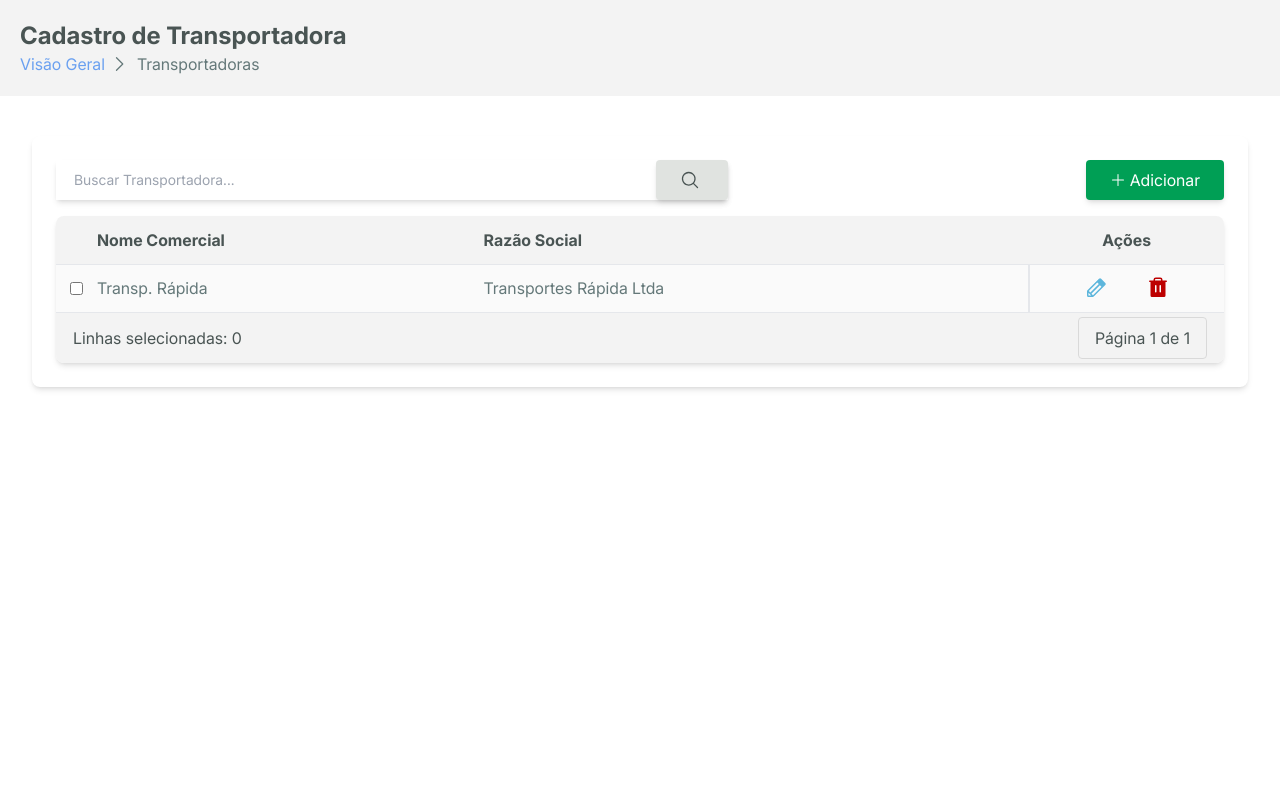
Scenario: navegação por teclado — CRUD de referência (Transportadora) › o botão Excluir abre o ConfirmModal por teclado, com trap de foco, e Esc devolve o foco
Expected: the text "Transp. Rápida" is shown, [96,264,483,312]
Click the button named "Excluir" at (1158, 288), box [1146,276,1170,300]
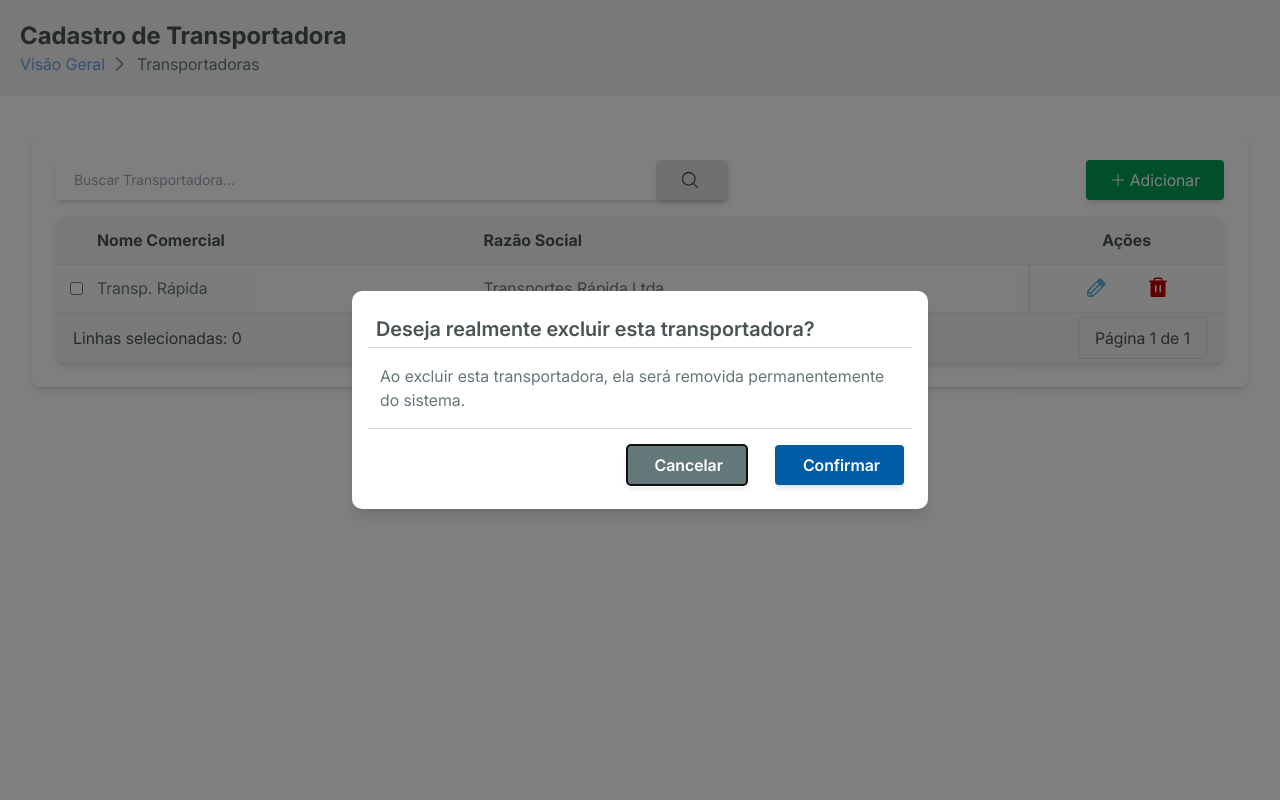
Expected: the dialog is shown, [352,291,928,509]
Press Tab
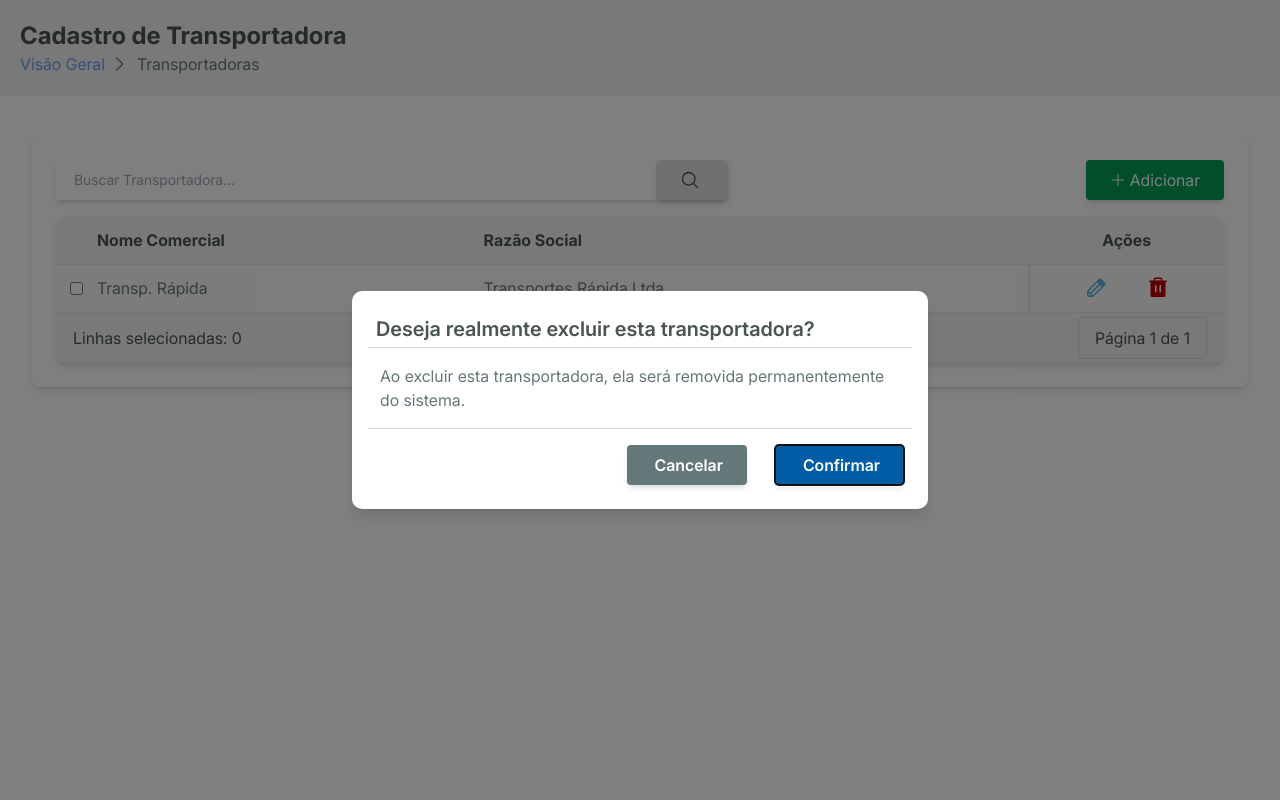
# Tab a partir do último elemento focável prende de volta no primeiro.
Press Tab
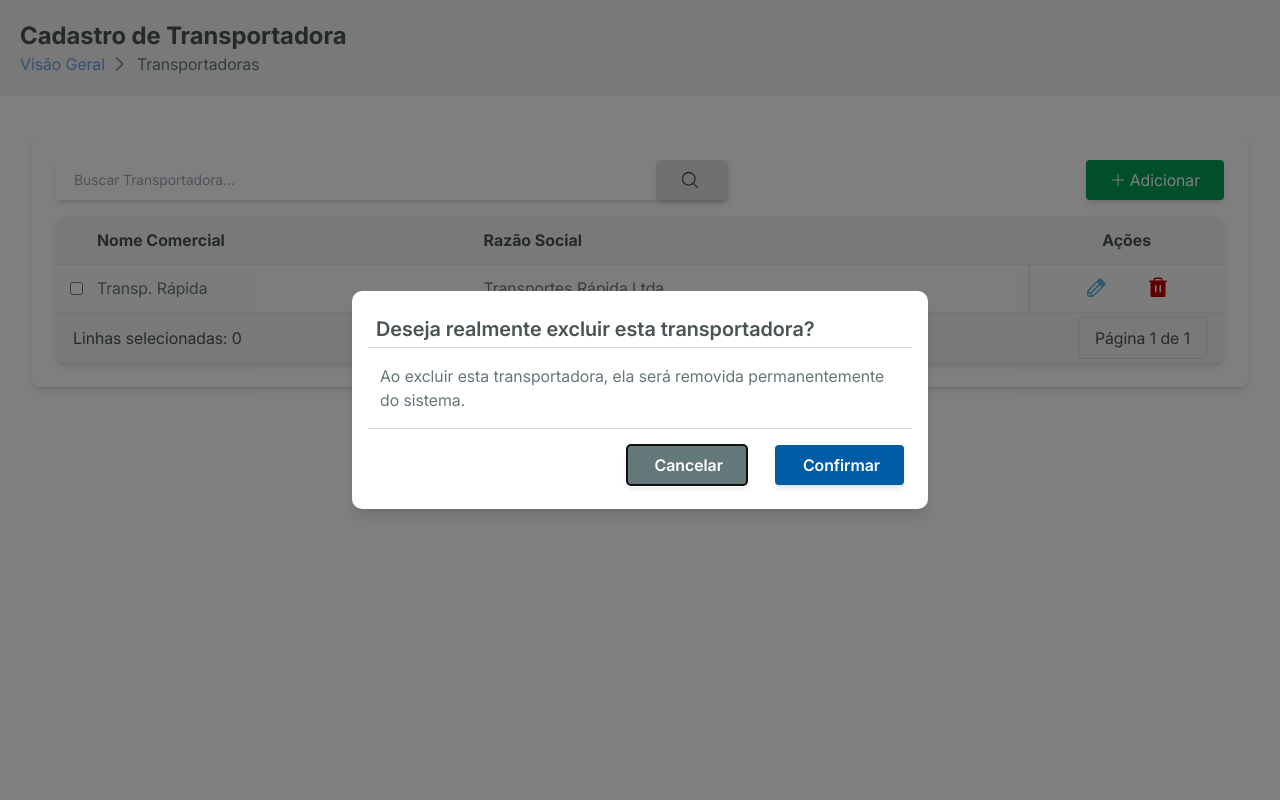
Press Escape
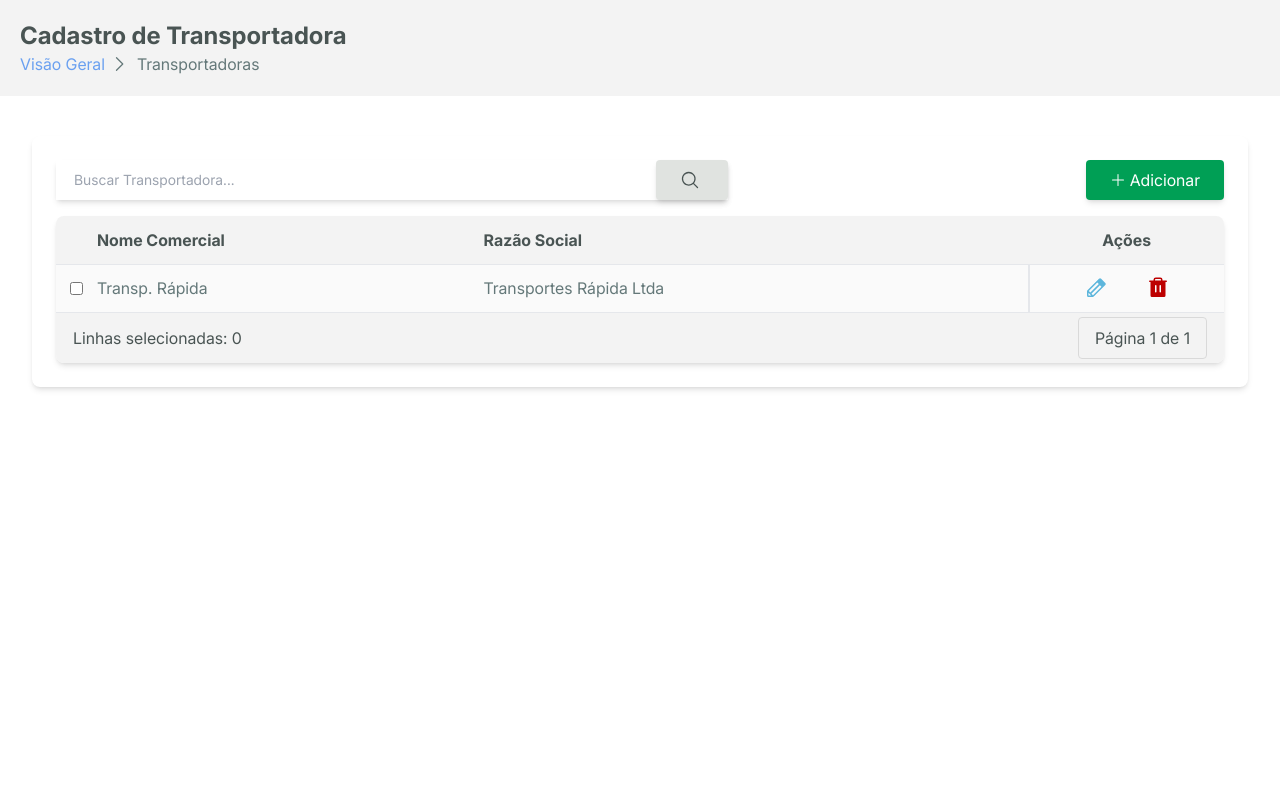
Expected: the button named "Excluir" is shown, [1146,276,1170,300]
Expected: the dialog is gone
